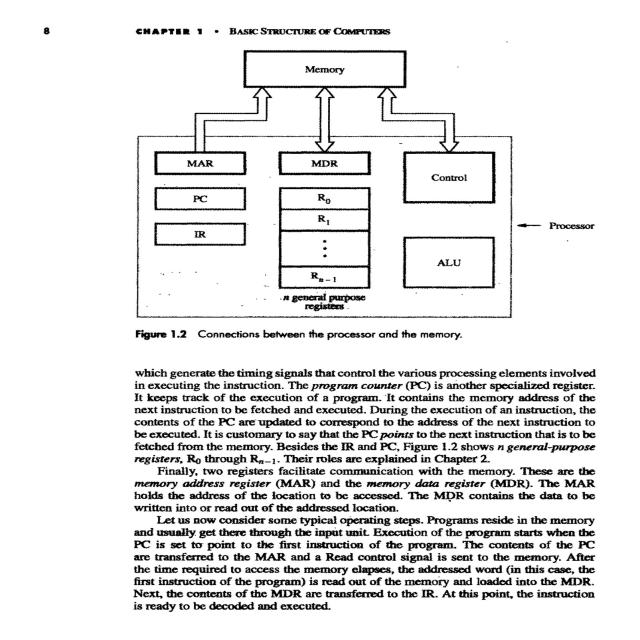diagram: (91, 37, 555, 358)
